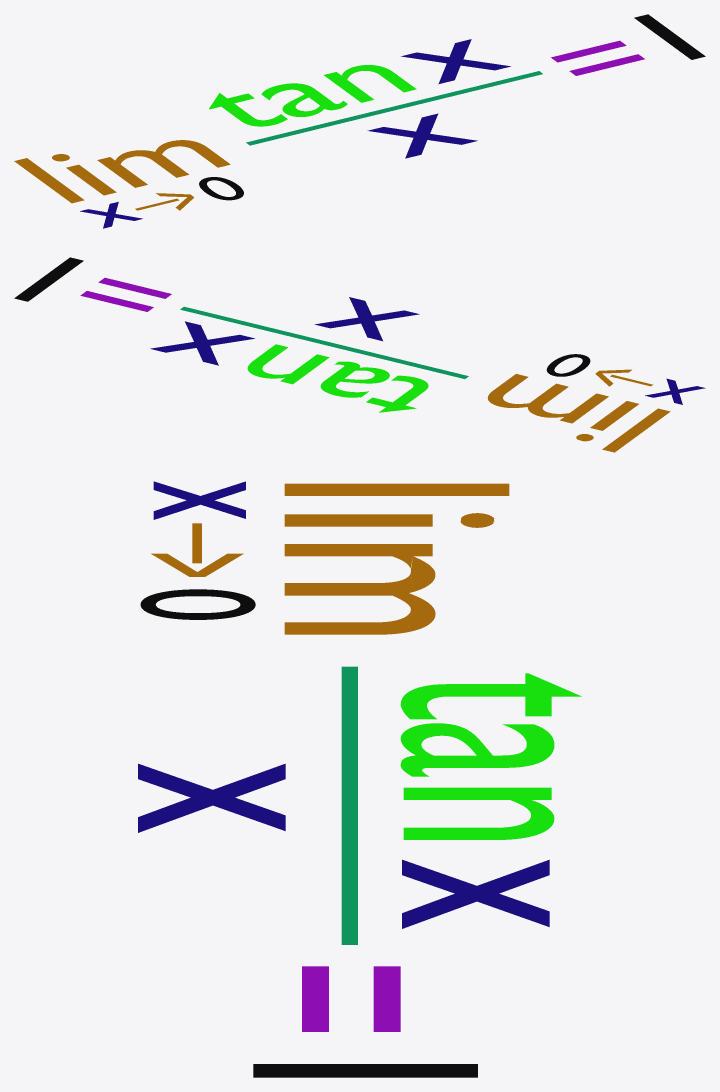
3 renders of one model, top to bottom at view 1: azimuth 30°, elevation 25°; view 2: azimuth 150°, elevation 25°; view 3: azimuth 270°, elevation 25°, orthographic. The views are drawn at different scales.
Visible parts, largest first — view 1: LR 7; view 2: LR 7; view 3: LR 7.
Part boxes in pixels (left/top/right/bottom): LR 7: left=14, top=14, right=705, bottom=228; LR 7: left=14, top=257, right=705, bottom=452; LR 7: left=138, top=481, right=581, bottom=1077.
Bounding box in the file's own units: 4.28 × 0.00182 × 1.35.
